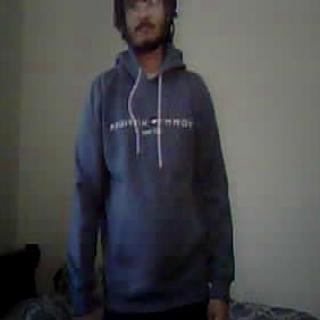Blue Hoodie: (69, 46, 238, 308)
Navy Sweatpants: (104, 308, 210, 320)
